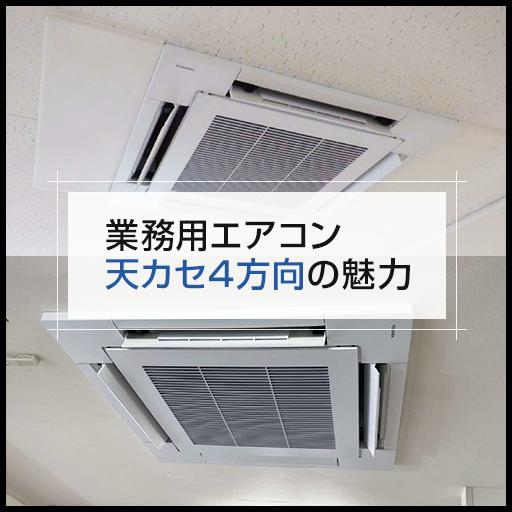4-way-ac: (109, 41, 456, 224), (40, 307, 412, 466)
